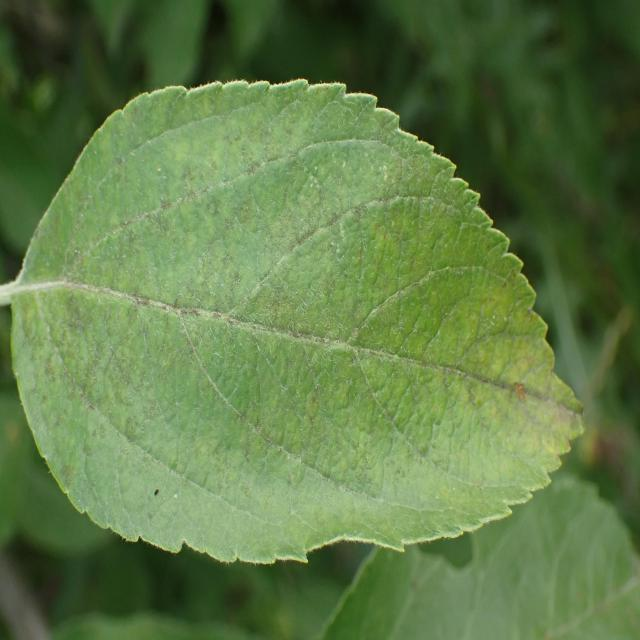scab: (11, 98, 577, 538)
